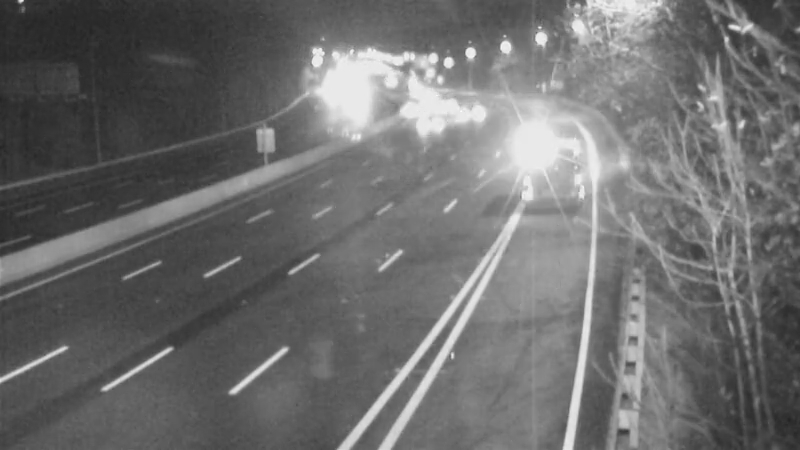vehicle: (494, 136, 574, 216), (416, 81, 466, 131), (390, 79, 440, 129), (443, 88, 493, 138), (413, 93, 463, 143)
